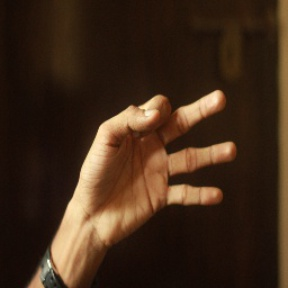K: (86, 88, 238, 247)
